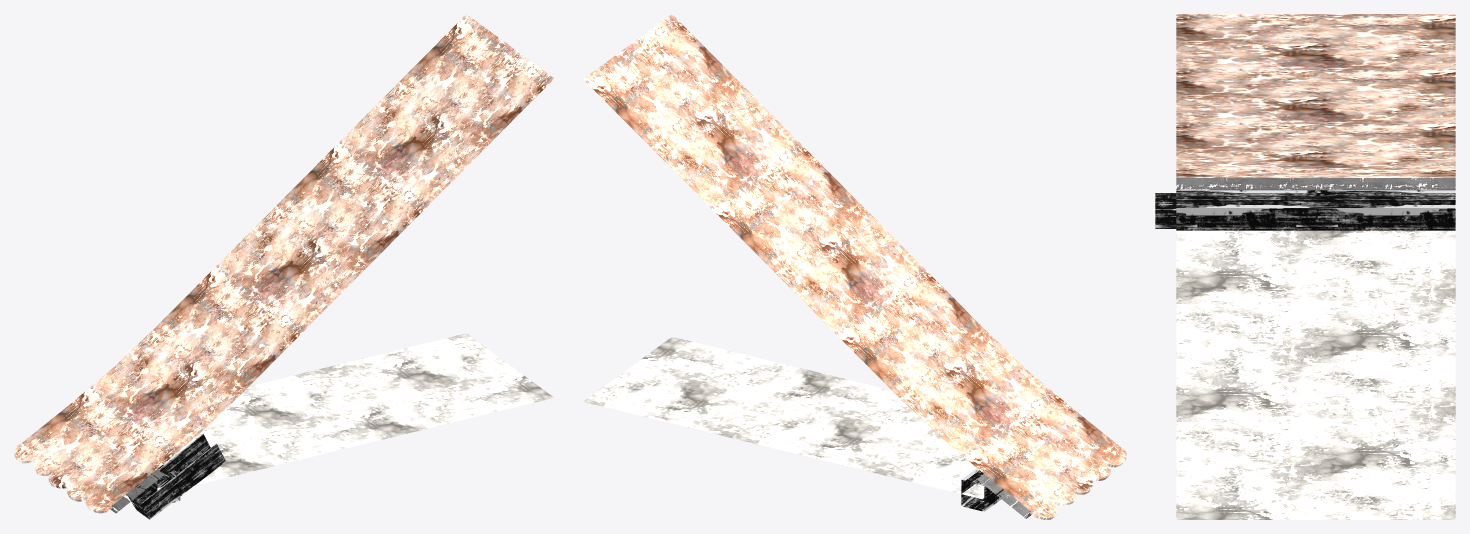
Rendered from SM_roof_A_part_2_02_02.fbx.
3 renders of one model, left to right at view 1: azimuth 30°, elevation 25°; view 2: azimuth 150°, elevation 25°; view 3: azimuth 270°, elevation 25°, orthographic. The views are drawn at different scales.
Visible parts, largest first — view 1: SM_roof_A_part_2_02_02_LOD0; view 2: SM_roof_A_part_2_02_02_LOD0; view 3: SM_roof_A_part_2_02_02_LOD0.
Boxes of the visible parts, left/top/right/bottom form: SM_roof_A_part_2_02_02_LOD0: left=14, top=14, right=553, bottom=519; SM_roof_A_part_2_02_02_LOD0: left=583, top=14, right=1126, bottom=519; SM_roof_A_part_2_02_02_LOD0: left=1155, top=14, right=1455, bottom=519.
Size of the model in its own units: 600 by 215 by 421.
Materials: 5 (5 with a texture image).
